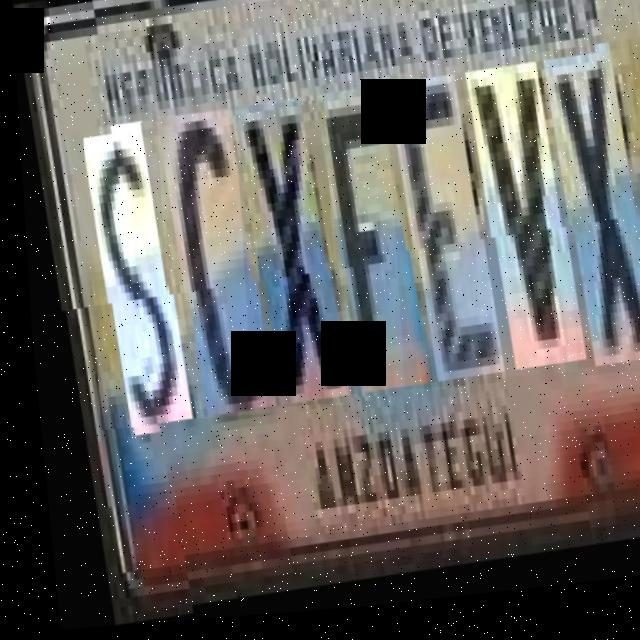C: (144, 111, 271, 426)
E: (374, 86, 498, 401)
F: (303, 94, 423, 408)
S: (70, 121, 185, 434)
V: (452, 77, 579, 392)
X: (222, 103, 345, 417), (530, 69, 640, 392)
